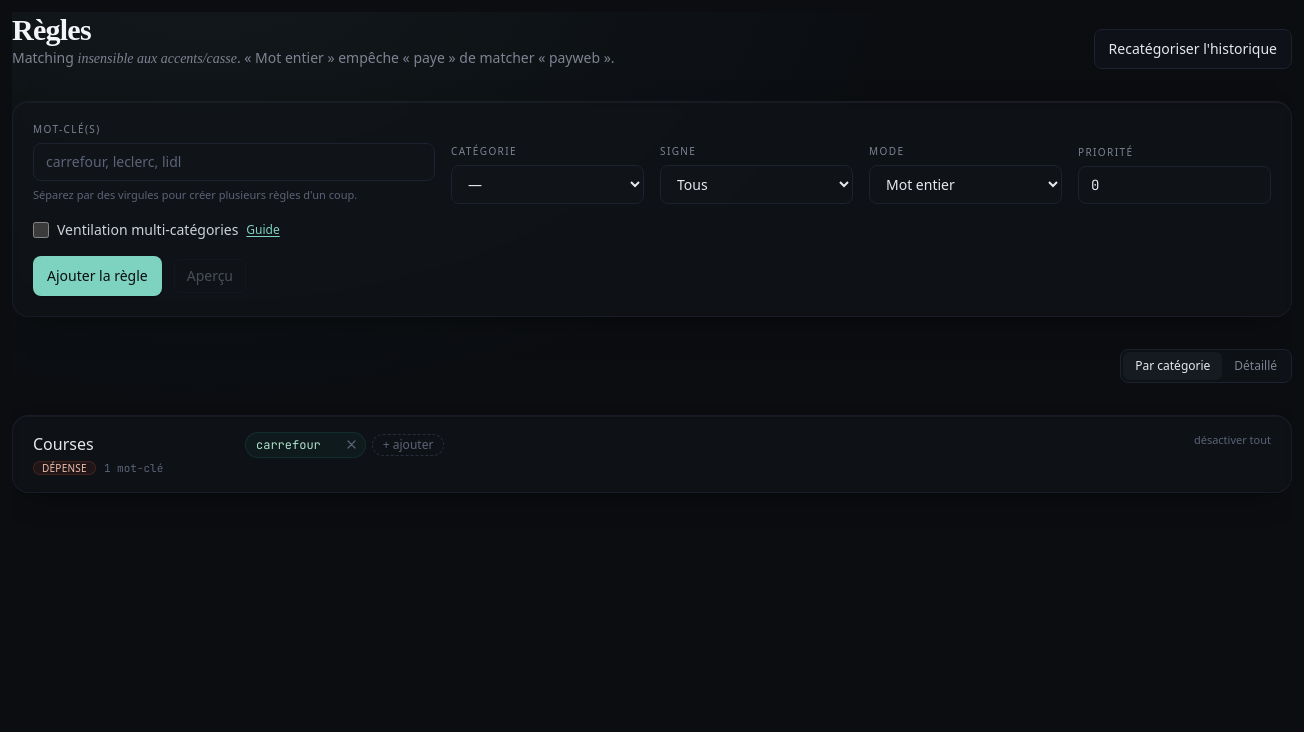
Rules page (characterization) › toggles between grouped and flat views
The image size is (1304, 732).
Expected: the button "carrefour" is shown, [256, 434, 321, 454]
Expected: the text "Courses" is shown, [33, 432, 94, 456]
Note: Switch to flat ("Détaillé").
Click the button "Détaillé" at coordinates (1256, 366), box [1222, 352, 1289, 380]
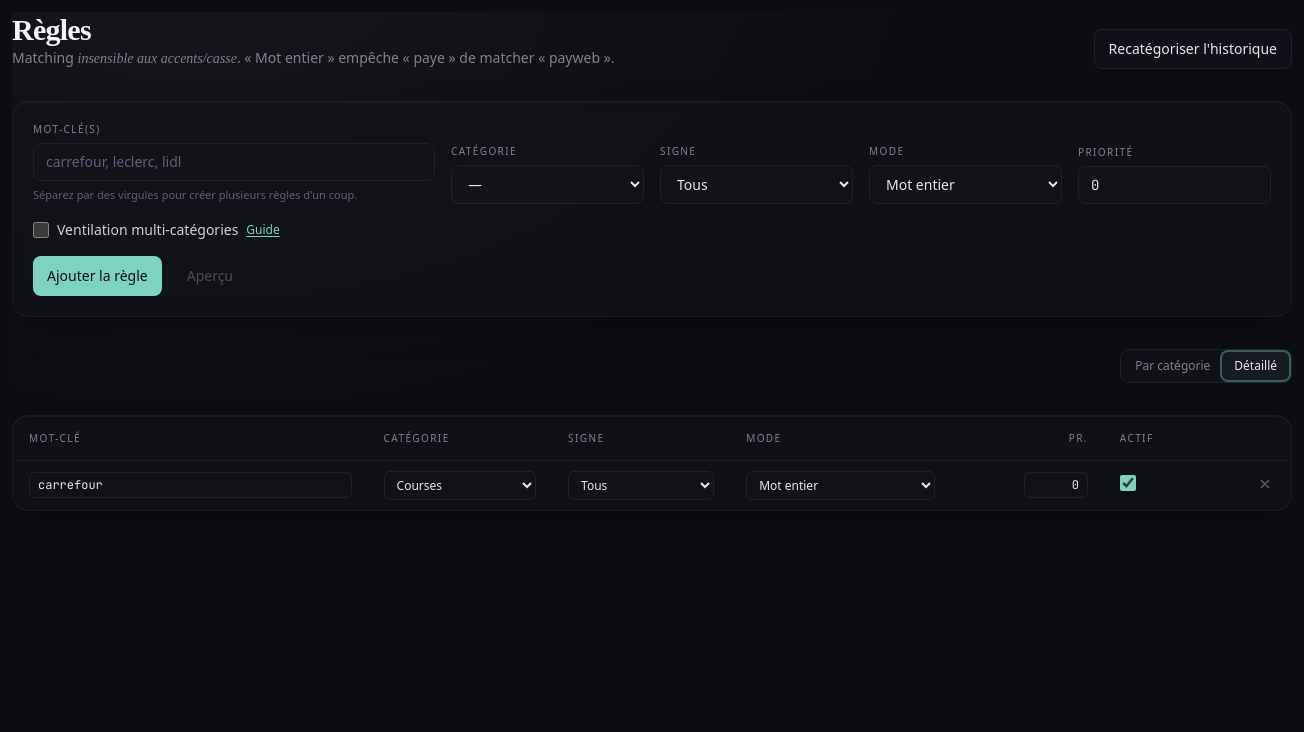
Expected: the column heading "Mot-clé" is shown, [13, 416, 368, 460]
Expected: the 1st field showing "carrefour" is shown, [29, 472, 352, 498]
Note: Toggle back to grouped ("Par catégorie").
Click the button "Par catégorie" at coordinates (1173, 366), box [1123, 352, 1222, 380]
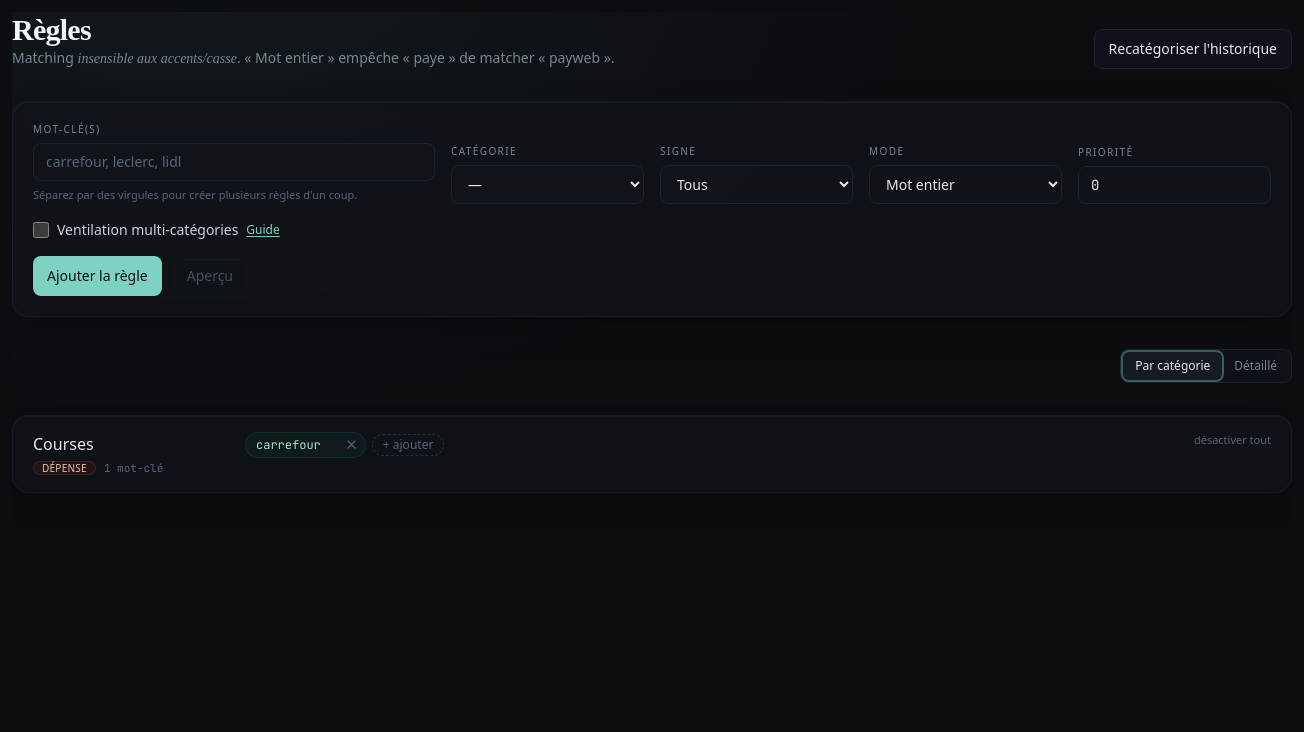
Expected: the text "Courses" is shown, [33, 432, 94, 456]
Expected: the button "carrefour" is shown, [256, 434, 321, 454]
